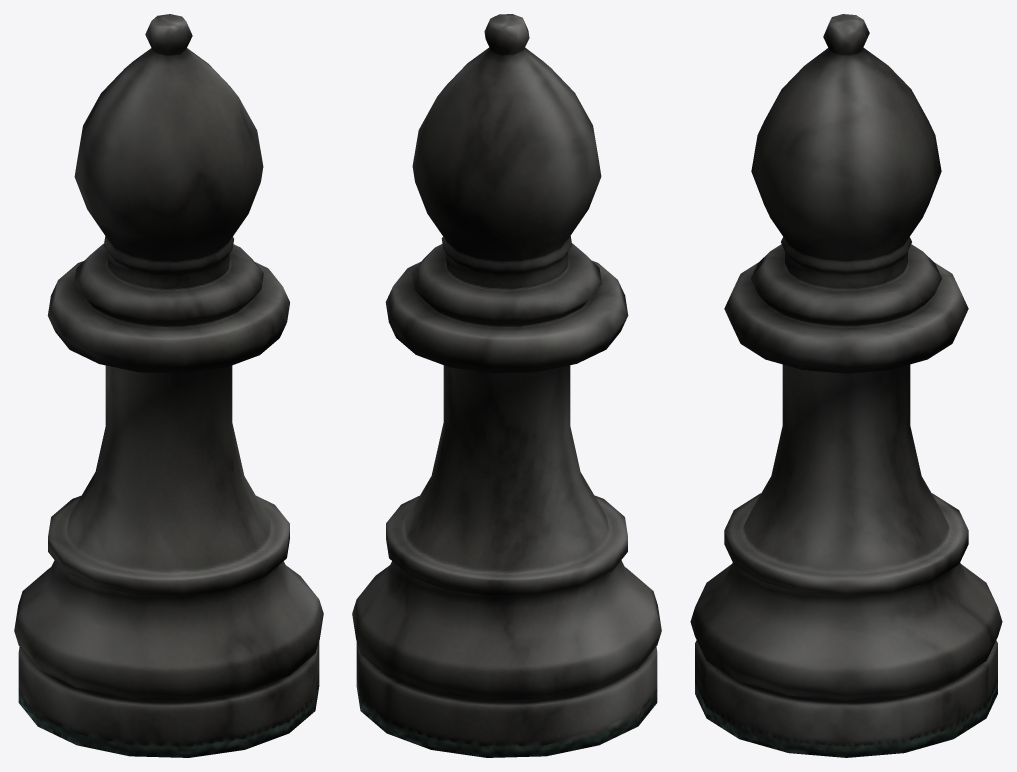
Rendered from ChessPieces_Bishop_Black.gltf.
The picture shows the model from 3 angles, left to right: view 1: azimuth 30°, elevation 25°; view 2: azimuth 150°, elevation 25°; view 3: azimuth 270°, elevation 25°; orthographic projection.
Parts seen in each view (by area): view 1: ChessPieces_Bishop_Black; view 2: ChessPieces_Bishop_Black; view 3: ChessPieces_Bishop_Black.
Boxes of the visible parts, left/top/right/bottom form: ChessPieces_Bishop_Black: left=14, top=14, right=323, bottom=757; ChessPieces_Bishop_Black: left=352, top=14, right=661, bottom=757; ChessPieces_Bishop_Black: left=690, top=14, right=1002, bottom=757.
Size of the model in its own units: 0.0277 by 0.0658 by 0.0277.
Materials: 1 (1 with a texture image).
